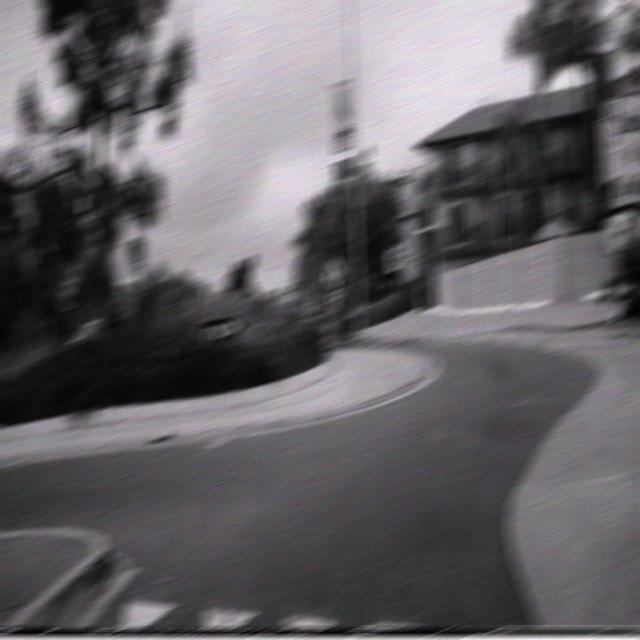pedestrianCrossing: (323, 256, 345, 290)
